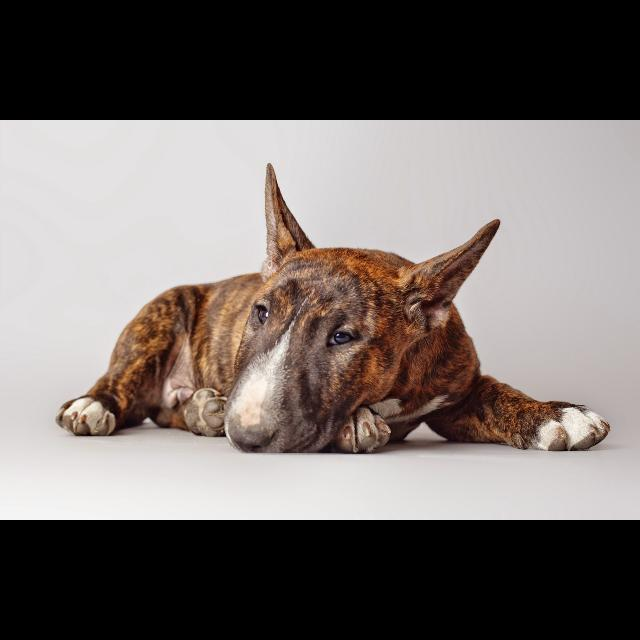bullterrier: (57, 163, 612, 455)
